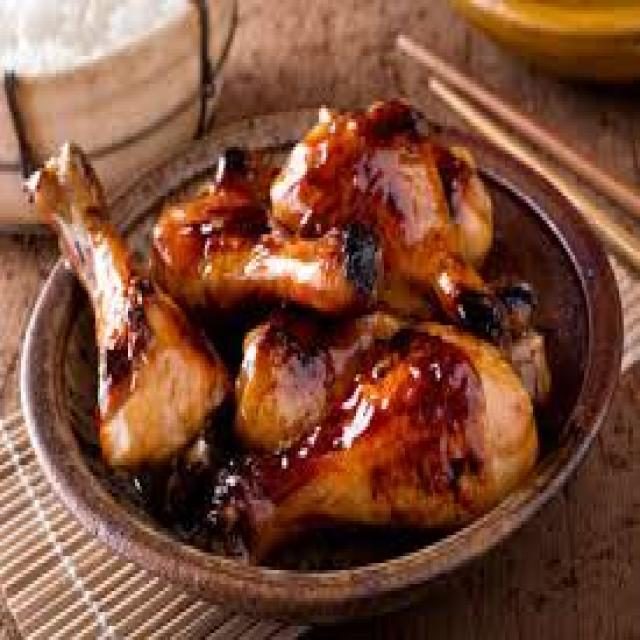Frango: (21, 119, 542, 545)
